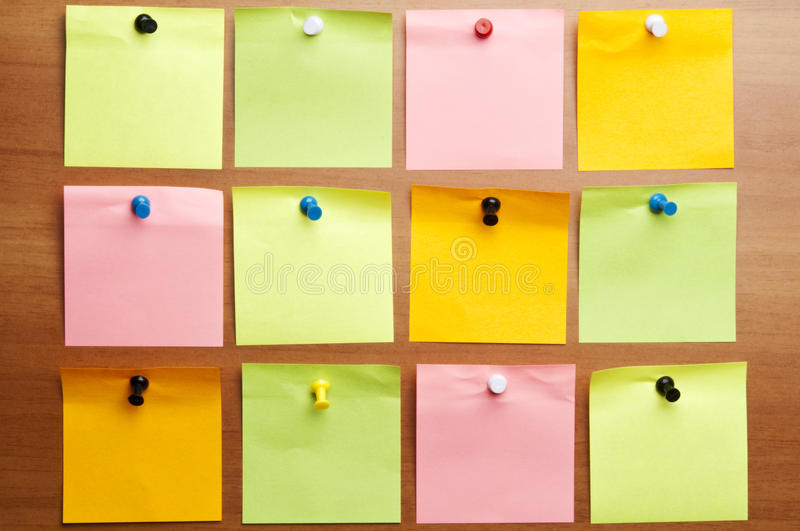orange_sticky_note: (573, 7, 737, 172), (58, 364, 223, 522), (408, 186, 570, 346)
pink_sticky_note: (64, 185, 224, 349), (404, 9, 564, 172), (415, 362, 575, 524)
yellow_sticky_note: (63, 5, 226, 170), (586, 361, 748, 524), (240, 362, 403, 524), (232, 6, 393, 169), (231, 186, 395, 346), (577, 186, 738, 345)
